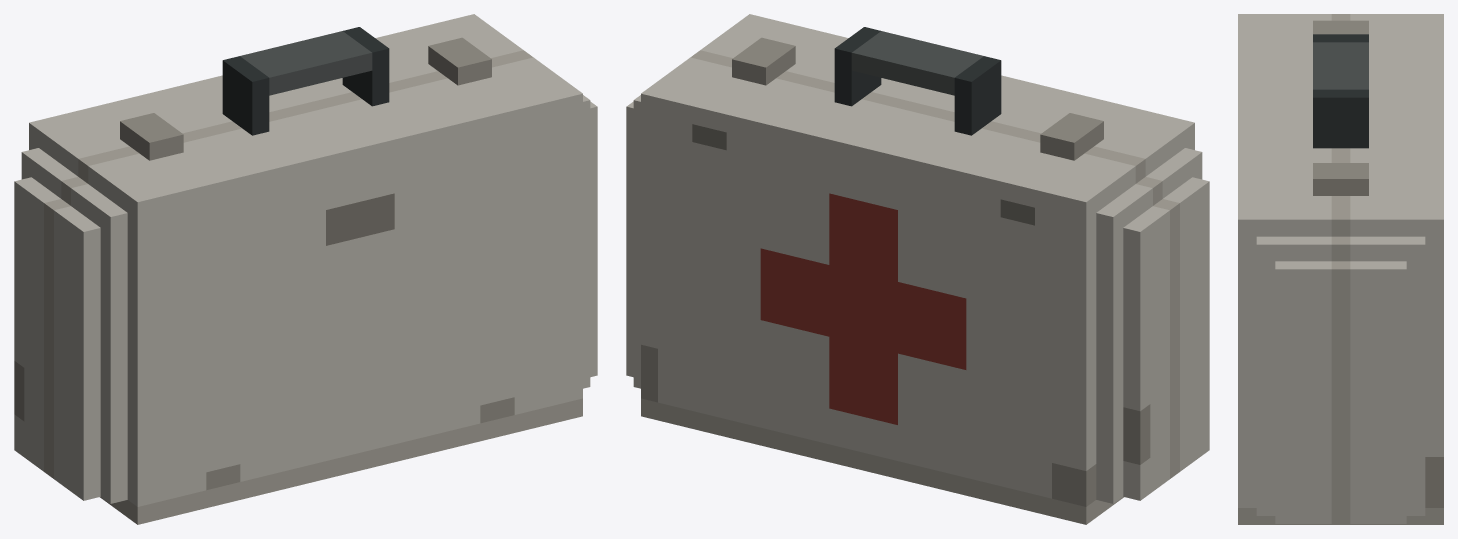
File: Claude_first_aid_kit.glb
The picture shows the model from 3 angles, left to right: view 1: azimuth 30°, elevation 25°; view 2: azimuth 150°, elevation 25°; view 3: azimuth 270°, elevation 25°; orthographic projection. The views are drawn at different scales.
Parts seen in each view (by area): view 1: Claude_first_aid_kit; view 2: Claude_first_aid_kit; view 3: Claude_first_aid_kit.
Part boxes in pixels (box(x1,y1,x2,y2)): Claude_first_aid_kit: box(14, 14, 597, 524); Claude_first_aid_kit: box(626, 14, 1209, 524); Claude_first_aid_kit: box(1238, 14, 1443, 524).
Bounding box in the file's own units: 0.375 × 0.2625 × 0.1375.
